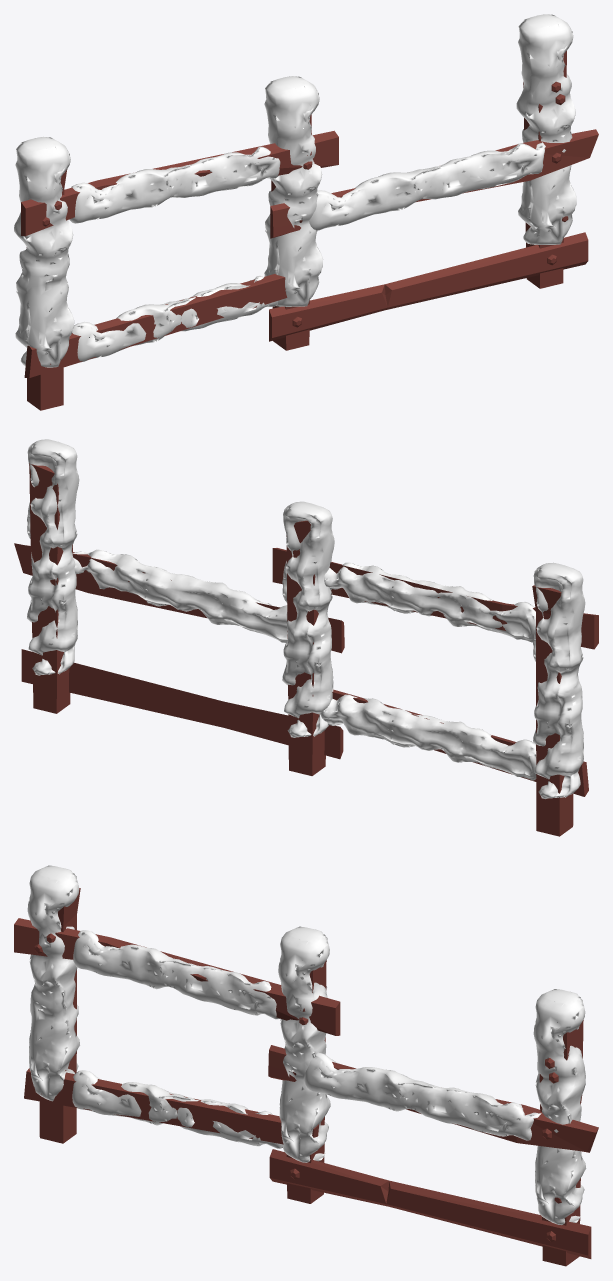
3 views of the same model, one above another, from view 1: azimuth 30°, elevation 25°; view 2: azimuth 150°, elevation 25°; view 3: azimuth 330°, elevation 25° (orthographic).
Parts seen in each view (by area): view 1: Fense_002, Object_303, Object_302, Object_301, Object_306, Object_304, Object_305; view 2: Fense_002, Object_303, Object_301, Object_302, Object_305, Object_306, Object_304; view 3: Fense_002, Object_303, Object_302, Object_301, Object_306, Object_304, Object_305.
Boxes of the visible parts, x1=… form: Fense_002: x1=21, y1=51, x2=598, y2=410; Object_303: x1=14, y1=136, x2=74, y2=367; Object_302: x1=516, y1=14, x2=576, y2=244; Object_301: x1=264, y1=76, x2=323, y2=306; Object_306: x1=309, y1=142, x2=545, y2=230; Object_304: x1=69, y1=146, x2=280, y2=223; Object_305: x1=72, y1=276, x2=278, y2=362; Fense_002: x1=14, y1=463, x2=598, y2=836; Object_303: x1=533, y1=562, x2=585, y2=798; Object_301: x1=282, y1=501, x2=334, y2=737; Object_302: x1=27, y1=439, x2=79, y2=675; Object_305: x1=320, y1=694, x2=536, y2=780; Object_306: x1=72, y1=549, x2=287, y2=642; Object_304: x1=324, y1=562, x2=535, y2=642; Fense_002: x1=14, y1=888, x2=598, y2=1266; Object_303: x1=27, y1=865, x2=79, y2=1101; Object_302: x1=533, y1=989, x2=586, y2=1224; Object_301: x1=278, y1=926, x2=330, y2=1162; Object_306: x1=304, y1=1052, x2=541, y2=1140; Object_304: x1=73, y1=930, x2=279, y2=1019; Object_305: x1=72, y1=1070, x2=282, y2=1148.
Size of the model in its own units: 2.48 by 1.08 by 0.2293.
